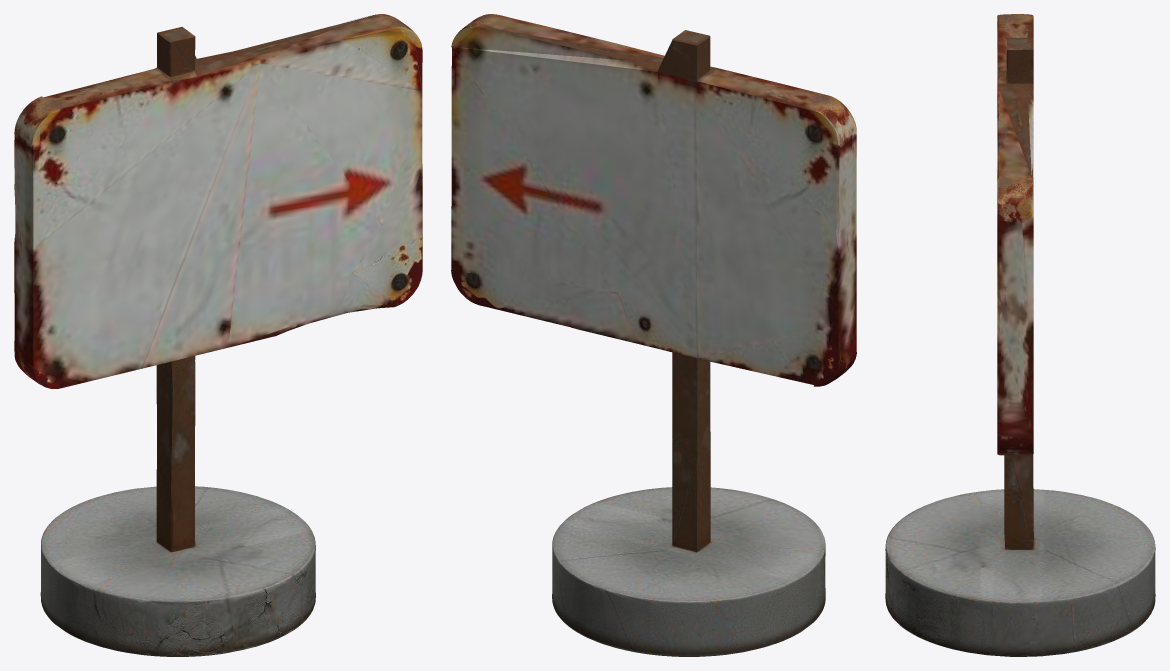
The model's file is deco_panneau.glb.
3 renders of one model, left to right at view 1: azimuth 30°, elevation 25°; view 2: azimuth 150°, elevation 25°; view 3: azimuth 270°, elevation 25°, orthographic.
Size of the model in its own units: 1.38 by 1.9 by 0.8381.
Materials: 1 (1 with a texture image).
